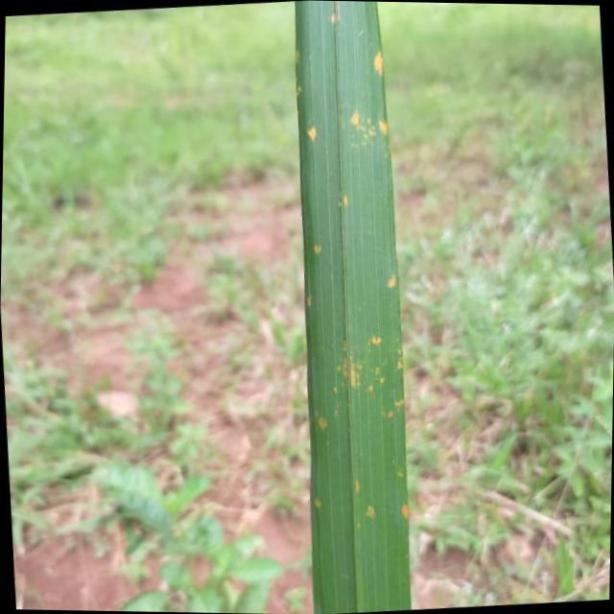Kalium: (298, 0, 413, 614)
